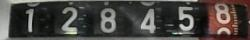digits: (214, 2, 232, 34), (60, 6, 78, 33), (100, 7, 116, 32), (178, 6, 194, 31), (140, 8, 156, 33), (24, 8, 34, 32)
